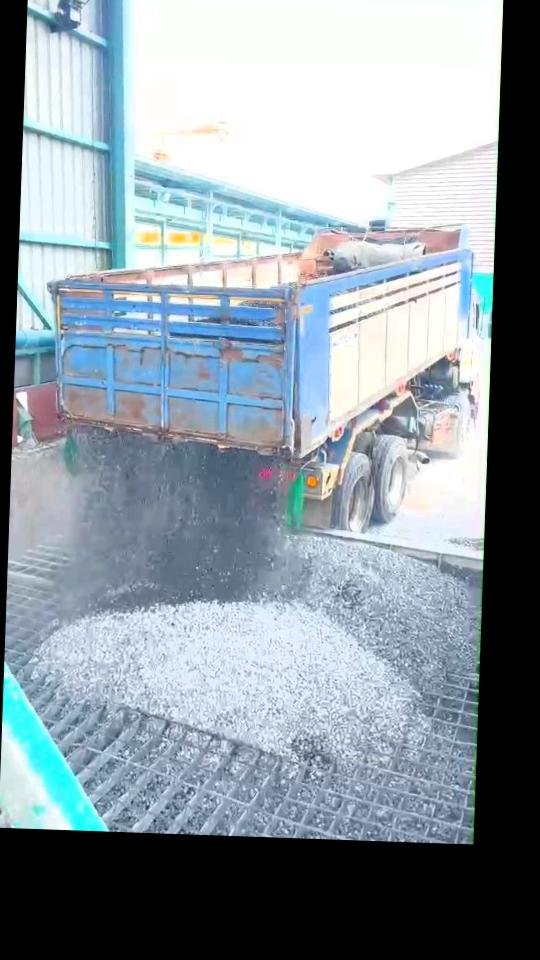gravel: (36, 536, 478, 764), (63, 427, 284, 614)
